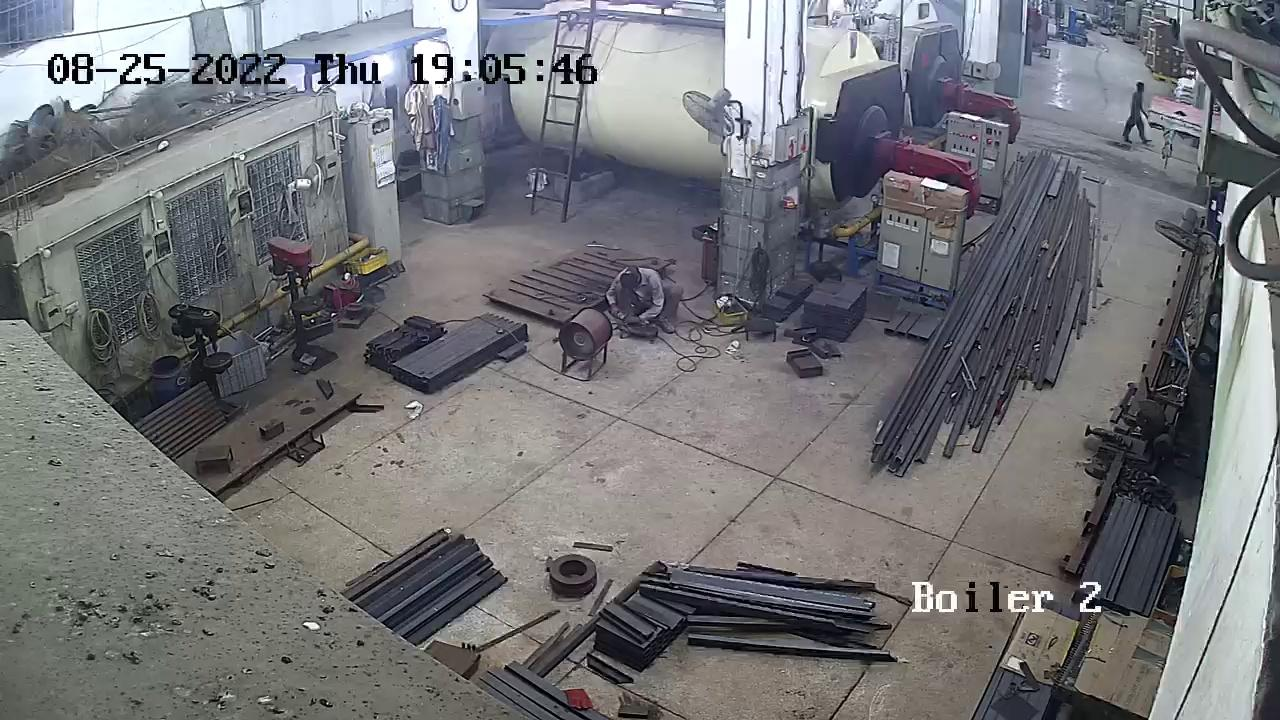person: (612, 263, 665, 334), (1124, 83, 1150, 150)
